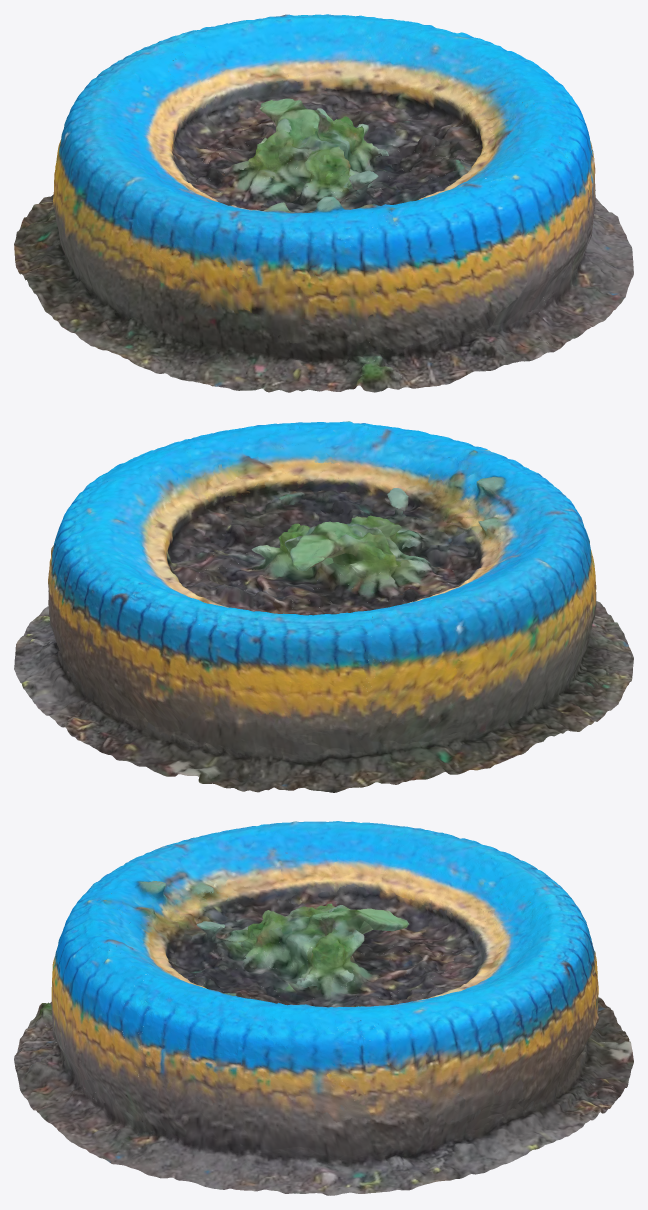
Rendered from sf-decor-tire-raw-scan-2e2b24.glb.
3 views of the same model, one above another, from view 1: azimuth 30°, elevation 25°; view 2: azimuth 150°, elevation 25°; view 3: azimuth 270°, elevation 25° (orthographic).
Visible parts, largest first — view 1: TexturedMesh_TextureAtlas_0_0, TexturedMesh_TextureAtlas_1_0; view 2: TexturedMesh_TextureAtlas_0_0, TexturedMesh_TextureAtlas_1_0; view 3: TexturedMesh_TextureAtlas_0_0, TexturedMesh_TextureAtlas_1_0.
Boxes of the visible parts, x1,y1,x2,y2 form: TexturedMesh_TextureAtlas_0_0: (14, 14, 633, 392); TexturedMesh_TextureAtlas_1_0: (74, 16, 589, 389); TexturedMesh_TextureAtlas_0_0: (14, 421, 633, 792); TexturedMesh_TextureAtlas_1_0: (77, 422, 629, 695); TexturedMesh_TextureAtlas_0_0: (14, 821, 633, 1195); TexturedMesh_TextureAtlas_1_0: (34, 849, 582, 1110).
Size of the model in its own units: 81.05 by 21.94 by 81.05.
Materials: 2 (2 with a texture image).
